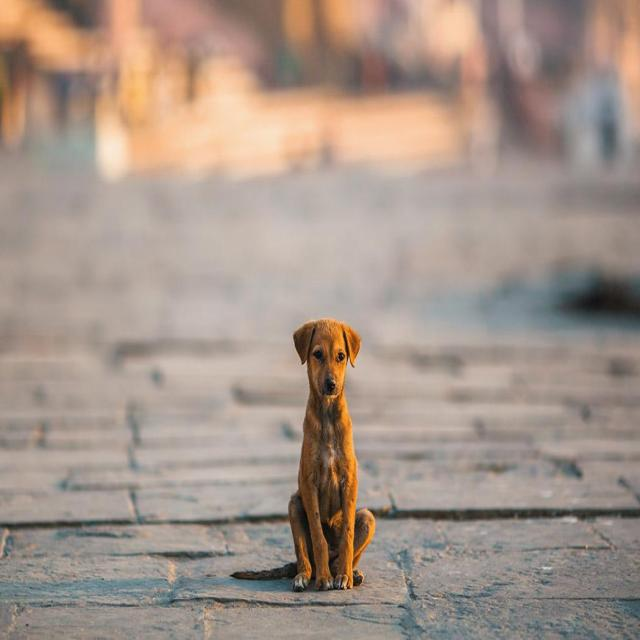Dog: (289, 315, 365, 412)
